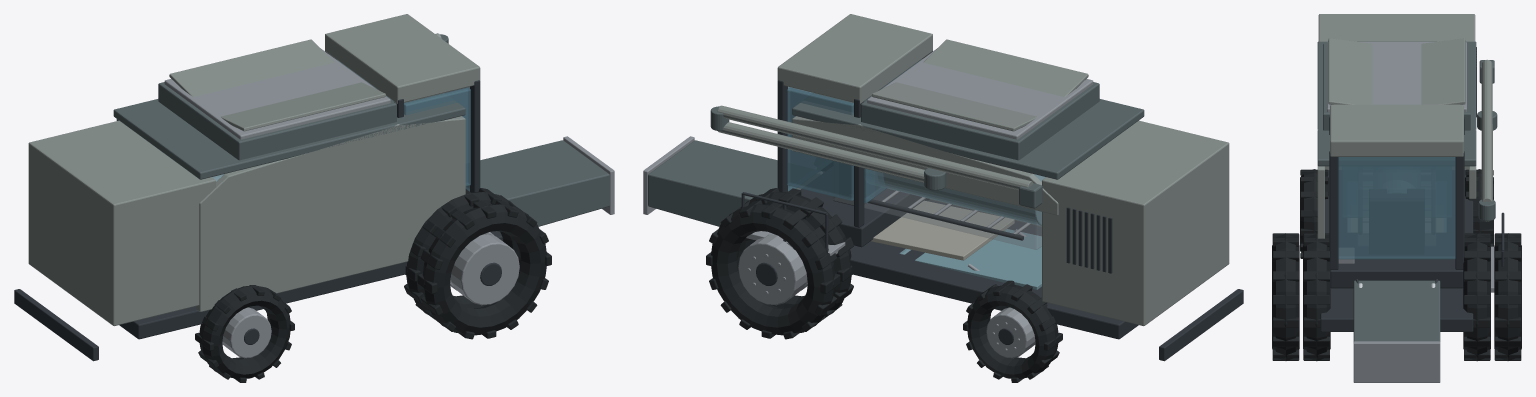
Rendered from case-ih-axial-flow-8250-structural-study.glb.
The picture shows the model from 3 angles, left to right: view 1: azimuth 30°, elevation 25°; view 2: azimuth 150°, elevation 25°; view 3: azimuth 270°, elevation 25°; orthographic projection. The views are drawn at different scales.
Visible parts, largest first — view 1: Separator_Right_Panel, Rear_Engine_House, Cab_Roof, Front_R_Outer_Tire, Feeder_Casing, Separator_Top, Grain_Tank_Top_Rail, Grain_Tank_Lower, Grain_Tank_Cover_L_Fixed, Rear_R_Tire, Front_R_Outer_Rim, Combine_Main_Frame (+7 smaller); view 2: Rear_Engine_House, Cab_Roof, Feeder_Casing, Front_L_Outer_Tire, Separator_Top, Rotor_Containment_Guard, Combine_Main_Frame, Grain_Tank_Top_Rail, Grain_Tank_Lower, Separator_Left_Upper_Panel, Cleaning_Grain_Pan, Grain_Tank_Cover_R_Fixed (+18 smaller); view 3: Cab_Front_Glass, Cab_Roof, Feeder_Casing, Rear_Engine_House, Cab_Floor, Feeder_Coupler_Face, Combine_Main_Frame, Grain_Tank_Top_Rail, Separator_Top, Operator_Seat, Grain_Tank_Cover_L_Fixed, Grain_Tank_Cover_R_Fixed (+32 smaller).
Part boxes in pixels (x1=…): Separator_Right_Panel: x1=196, y1=116, x2=465, y2=311; Rear_Engine_House: x1=28, y1=120, x2=215, y2=326; Cab_Roof: x1=325, y1=14, x2=480, y2=103; Front_R_Outer_Tire: x1=422, y1=204, x2=546, y2=335; Feeder_Casing: x1=466, y1=140, x2=609, y2=226; Separator_Top: x1=113, y1=93, x2=465, y2=179; Grain_Tank_Top_Rail: x1=164, y1=48, x2=390, y2=139; Grain_Tank_Lower: x1=158, y1=82, x2=396, y2=160; Grain_Tank_Cover_L_Fixed: x1=169, y1=39, x2=334, y2=96; Rear_R_Tire: x1=199, y1=285, x2=290, y2=378; Front_R_Outer_Rim: x1=450, y1=234, x2=519, y2=305; Combine_Main_Frame: x1=119, y1=231, x2=502, y2=339; Rear_Engine_House: x1=1042, y1=120, x2=1229, y2=326; Cab_Roof: x1=777, y1=14, x2=932, y2=103; Feeder_Casing: x1=648, y1=140, x2=823, y2=226; Front_L_Outer_Tire: x1=711, y1=204, x2=835, y2=335; Separator_Top: x1=792, y1=93, x2=1144, y2=179; Rotor_Containment_Guard: x1=833, y1=171, x2=1044, y2=249; Combine_Main_Frame: x1=755, y1=200, x2=1138, y2=339; Grain_Tank_Top_Rail: x1=867, y1=48, x2=1093, y2=139; Grain_Tank_Lower: x1=861, y1=82, x2=1099, y2=160; Separator_Left_Upper_Panel: x1=792, y1=116, x2=1058, y2=215; Cleaning_Grain_Pan: x1=871, y1=200, x2=1014, y2=260; Grain_Tank_Cover_R_Fixed: x1=923, y1=39, x2=1088, y2=96; Cab_Front_Glass: x1=1338, y1=157, x2=1455, y2=259; Cab_Roof: x1=1330, y1=104, x2=1463, y2=156; Feeder_Casing: x1=1353, y1=280, x2=1440, y2=341; Rear_Engine_House: x1=1318, y1=14, x2=1475, y2=170; Cab_Floor: x1=1330, y1=233, x2=1463, y2=288; Feeder_Coupler_Face: x1=1353, y1=341, x2=1440, y2=382; Combine_Main_Frame: x1=1320, y1=170, x2=1473, y2=331; Grain_Tank_Top_Rail: x1=1327, y1=42, x2=1466, y2=112; Separator_Top: x1=1317, y1=41, x2=1476, y2=166; Operator_Seat: x1=1369, y1=198, x2=1424, y2=253; Grain_Tank_Cover_L_Fixed: x1=1421, y1=38, x2=1465, y2=104; Grain_Tank_Cover_R_Fixed: x1=1328, y1=38, x2=1372, y2=104.
Size of the model in its own units: 9 by 3.9 by 3.96.
